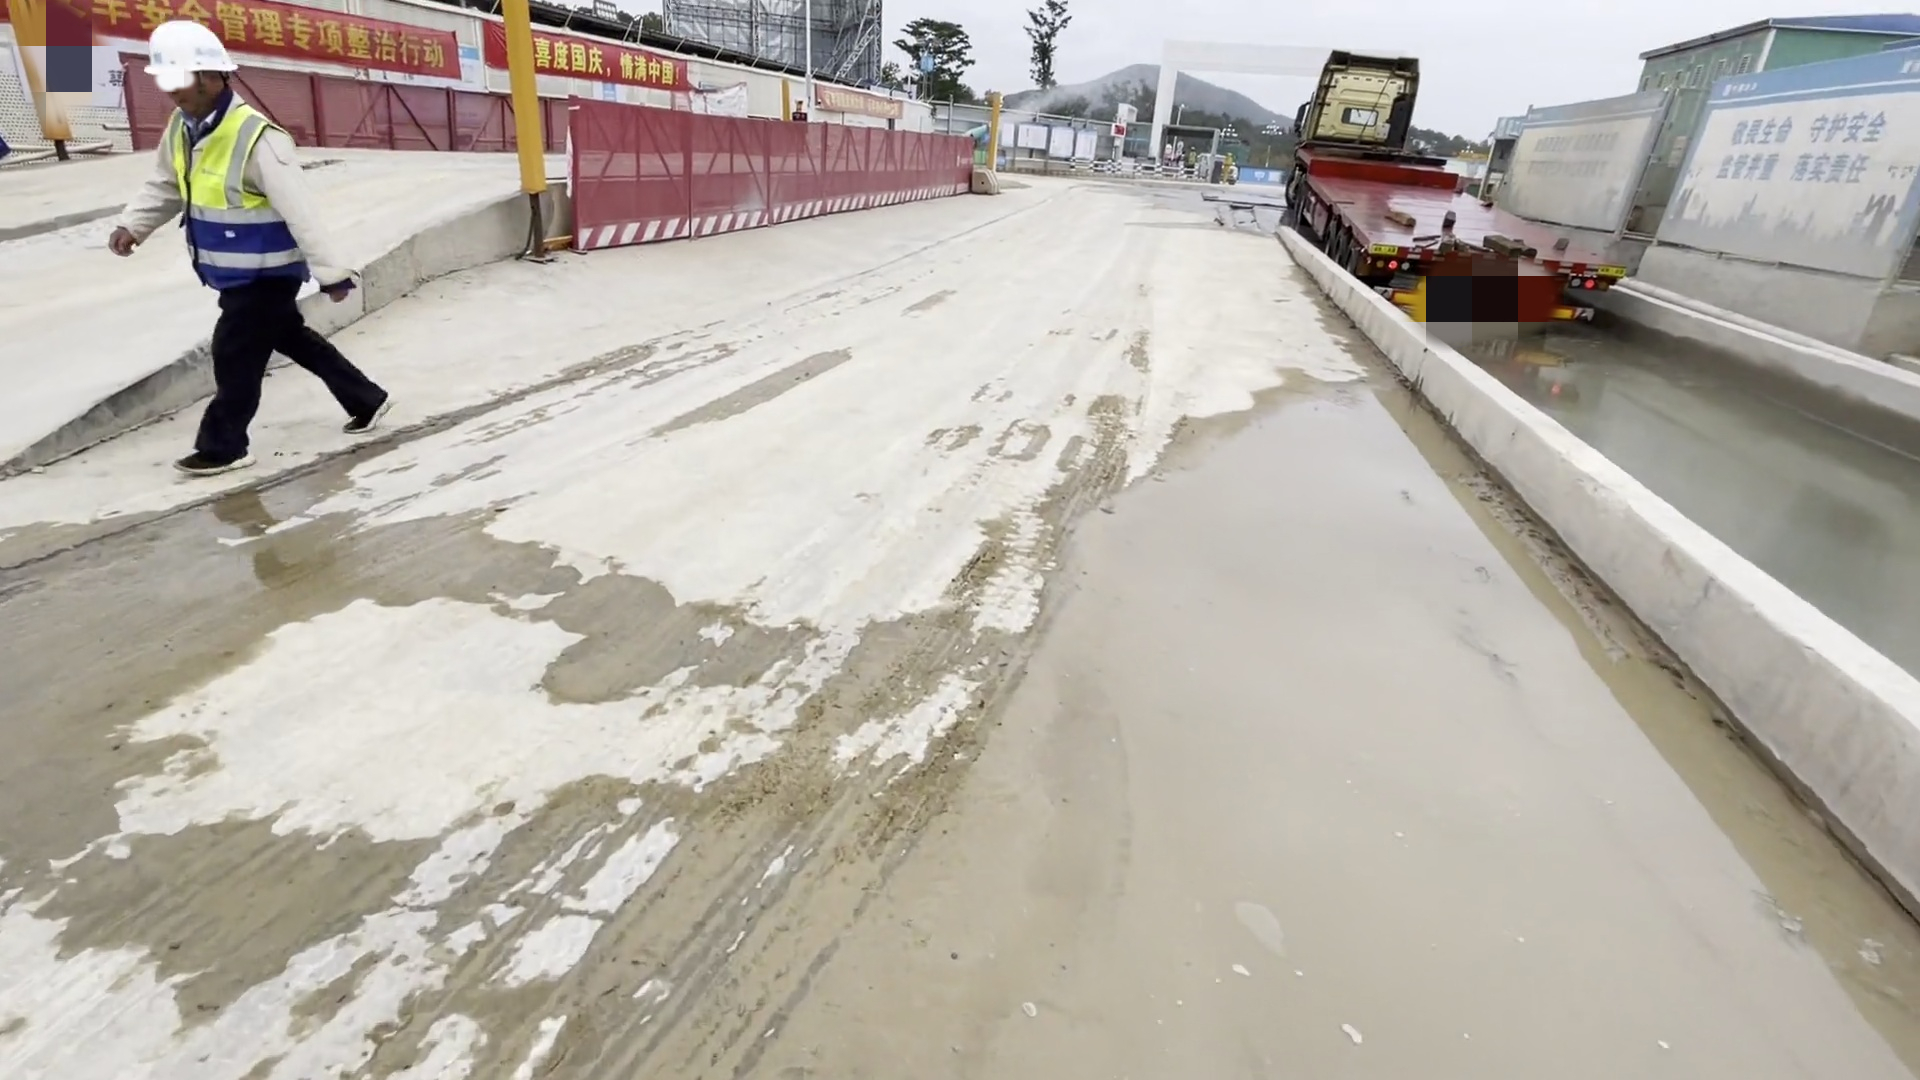helmet: (139, 22, 238, 81)
person: (89, 8, 375, 487)
slogan: (1682, 70, 1914, 230), (101, 1, 454, 79), (1484, 111, 1657, 203), (478, 28, 702, 94)
vest: (158, 103, 307, 287)
